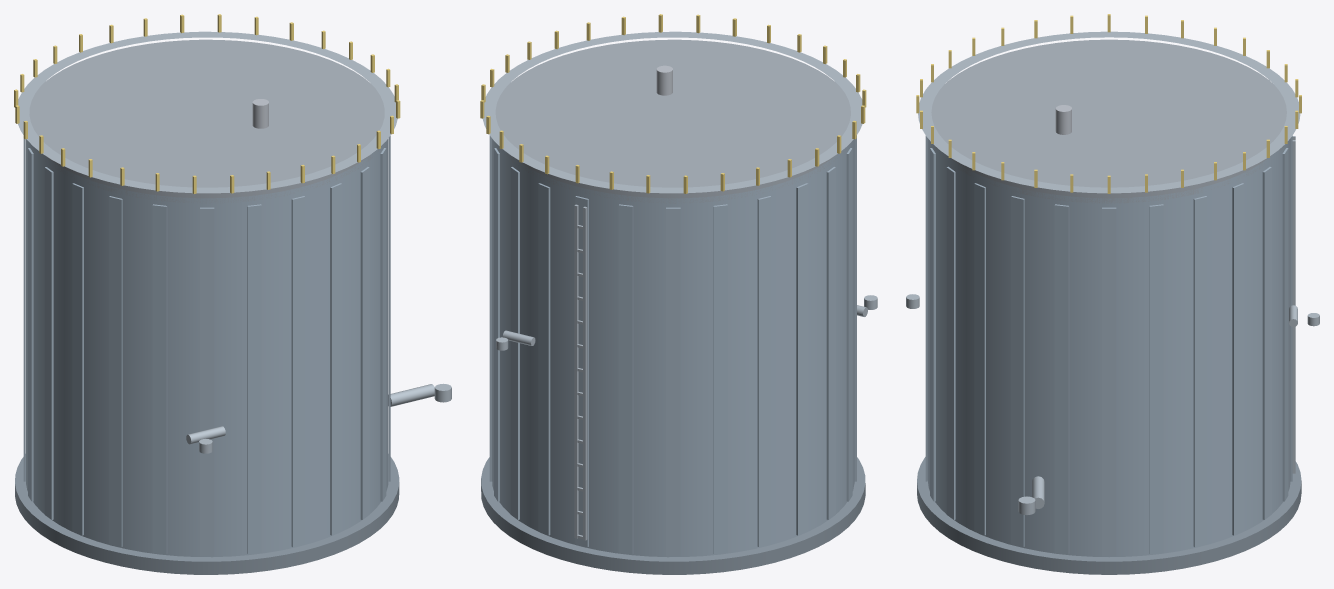
Rendered from tank_d.glb.
3 views of the same model, side by side, from view 1: azimuth 30°, elevation 25°; view 2: azimuth 150°, elevation 25°; view 3: azimuth 270°, elevation 25° (orthographic).
Parts seen in each view (by area): view 1: shell, seal, foundation, walkway, panel_9, panel_7, panel_6, panel_8, panel_10, panel_11, panel_5, panel_4 (+6 smaller); view 2: shell, seal, foundation, walkway, panel_17, panel_16, panel_15, panel_14, panel_19, panel_13, panel_12, panel_20 (+7 smaller); view 3: shell, seal, foundation, walkway, panel_1, panel_0, panel_22, panel_23, panel_2, panel_21, panel_3, panel_20 (+7 smaller).
Boxes of the visible parts, x1,y1,x2,y2 form: shell: [26, 139, 388, 557]; seal: [29, 39, 384, 203]; foundation: [15, 454, 399, 574]; walkway: [18, 31, 397, 193]; panel_9: [152, 204, 167, 554]; panel_7: [247, 204, 261, 554]; panel_6: [291, 196, 305, 547]; panel_8: [200, 207, 214, 556]; panel_10: [109, 196, 122, 547]; panel_11: [72, 183, 83, 535]; panel_5: [330, 183, 341, 535]; panel_4: [360, 167, 369, 519]; shell: [492, 138, 854, 557]; seal: [495, 39, 850, 203]; foundation: [481, 457, 865, 574]; walkway: [482, 31, 862, 193]; panel_17: [618, 204, 633, 554]; panel_16: [666, 207, 680, 556]; panel_15: [713, 204, 727, 554]; panel_14: [757, 196, 771, 547]; panel_19: [538, 183, 550, 535]; panel_13: [796, 183, 808, 535]; panel_12: [826, 167, 835, 519]; panel_20: [510, 167, 519, 519]; shell: [927, 138, 1290, 557]; seal: [931, 39, 1286, 203]; foundation: [917, 457, 1301, 574]; walkway: [918, 31, 1300, 193]; panel_1: [1054, 204, 1069, 554]; panel_0: [1102, 207, 1116, 556]; panel_22: [1193, 196, 1207, 547]; panel_23: [1149, 204, 1163, 554]; panel_2: [1011, 196, 1024, 547]; panel_21: [1232, 183, 1244, 535]; panel_3: [974, 183, 985, 535]; panel_20: [1262, 167, 1271, 519].
Bounding box in the file's own units: 5.53 × 5.72 × 5.36.
